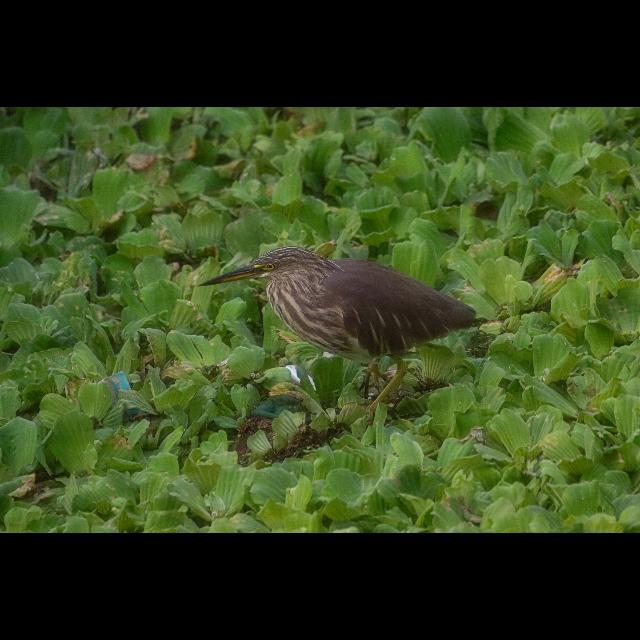heron: (197, 245, 478, 388)
